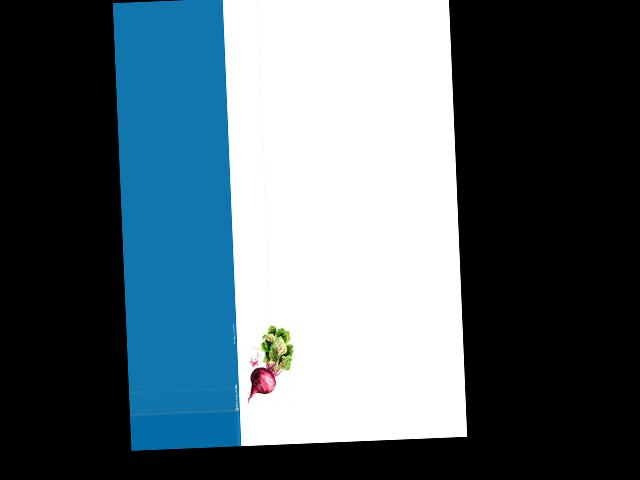beet: (244, 324, 295, 402)
